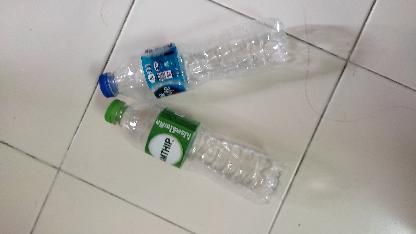Plastic Bottle: (104, 98, 286, 204), (100, 15, 292, 101)
